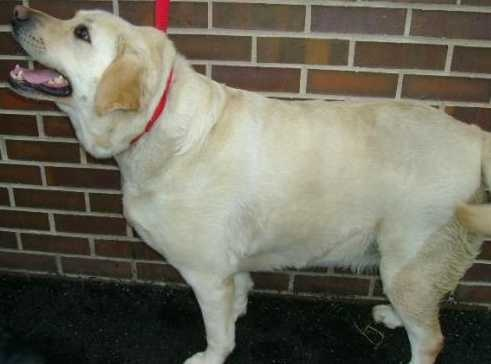dog: (0, 0, 491, 327)
